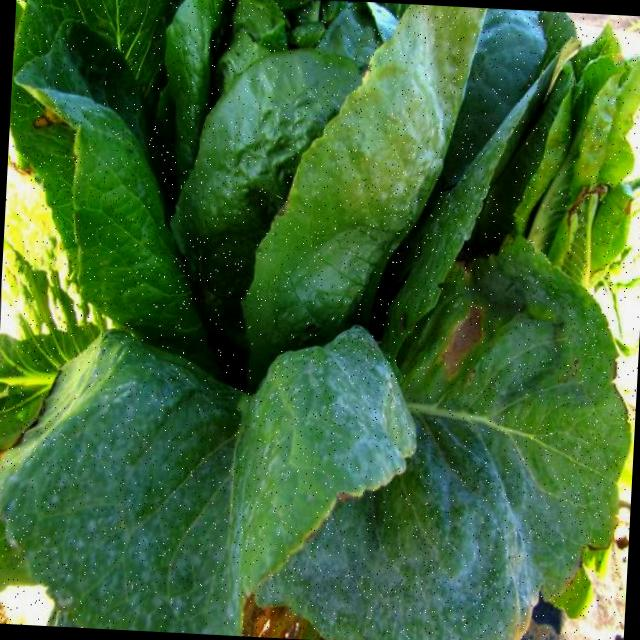Powdery_Mildew: (48, 330, 335, 623), (343, 341, 561, 637)
